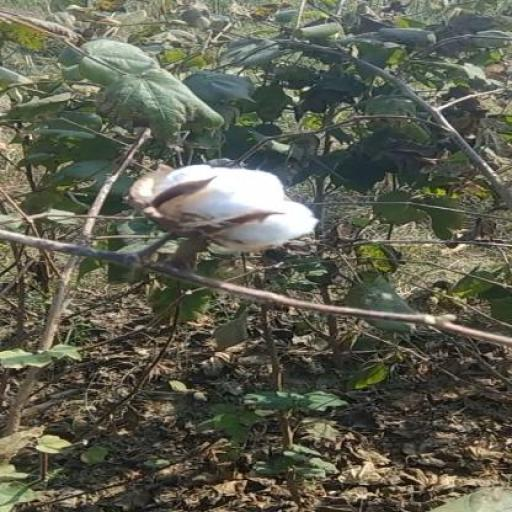cotton_ready: (129, 158, 331, 289)
